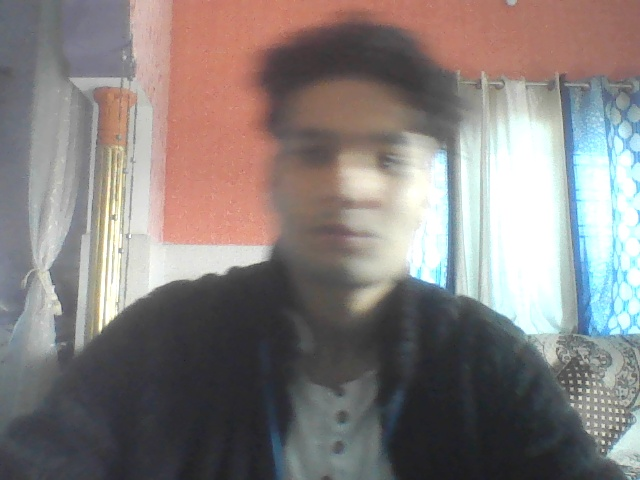real: (247, 14, 458, 313)
